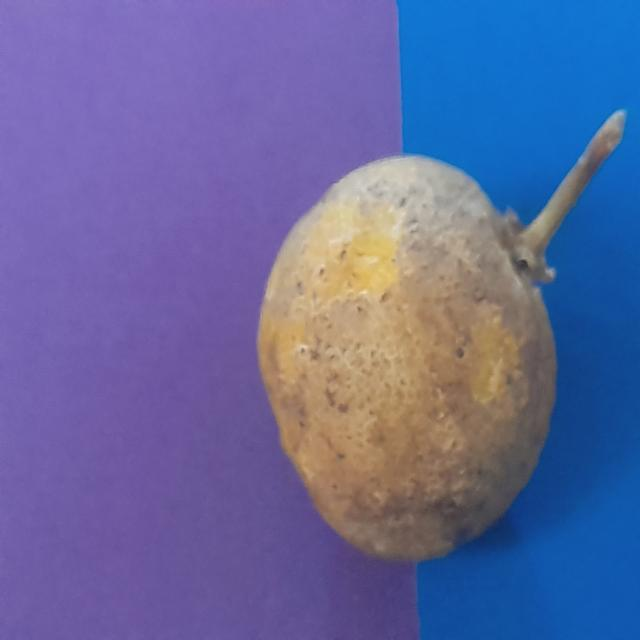thrips: (250, 134, 576, 589)
